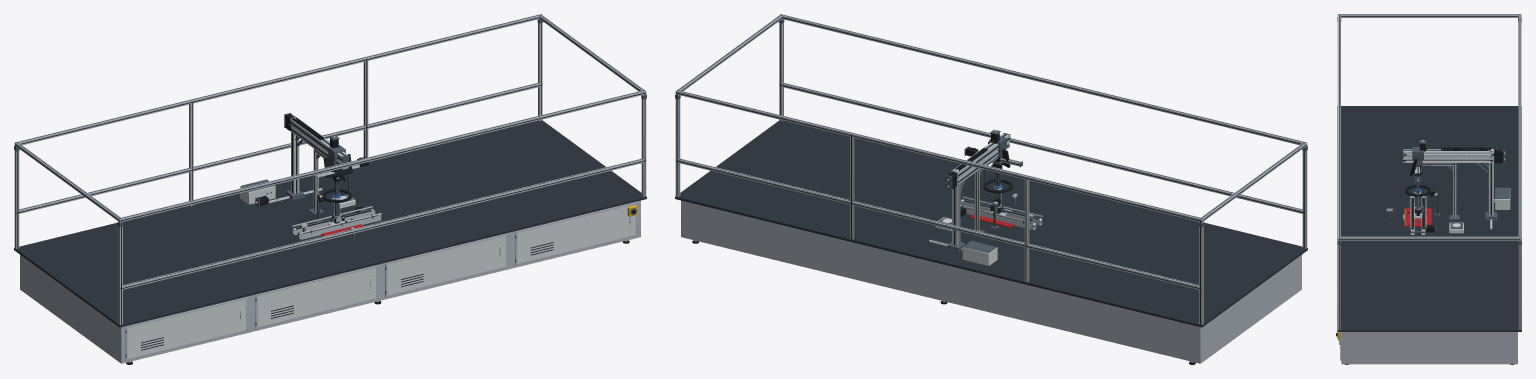
The model's file is machine.glb.
3 renders of one model, left to right at view 1: azimuth 30°, elevation 25°; view 2: azimuth 150°, elevation 25°; view 3: azimuth 270°, elevation 25°, orthographic. The views are drawn at different scales.
Parts seen in each view (by area): view 1: frame_base, frame_posts, frame_front_rail, dispenser_bridge, conveyor_zone, dispenser_fixed, vision_fixed; view 2: frame_base, frame_posts, frame_front_rail, dispenser_bridge, conveyor_zone, dispenser_fixed, vision_fixed, inspection_fixed; view 3: frame_base, frame_posts, dispenser_bridge, gantry_fixed, dispenser_fixed, conveyor_zone, vision_fixed, inspection_fixed, ng_drawer, dispenser_carriage, hmi_pendant.
Part boxes in pixels (<box>): frame_base: <box>14,120,646,364</box>; frame_posts: <box>14,14,646,324</box>; frame_front_rail: <box>118,158,646,290</box>; dispenser_bridge: <box>284,113,349,198</box>; conveyor_zone: <box>292,205,381,239</box>; dispenser_fixed: <box>240,179,355,208</box>; vision_fixed: <box>300,149,354,239</box>; frame_base: <box>675,120,1307,364</box>; frame_posts: <box>675,14,1307,324</box>; frame_front_rail: <box>779,82,1307,213</box>; dispenser_bridge: <box>945,132,1010,250</box>; conveyor_zone: <box>960,196,1042,229</box>; dispenser_fixed: <box>929,217,997,266</box>; vision_fixed: <box>973,157,1034,232</box>; inspection_fixed: <box>964,146,1022,230</box>; frame_base: <box>1336,106,1521,364</box>; frame_posts: <box>1337,14,1521,329</box>; dispenser_bridge: <box>1403,147,1505,219</box>; gantry_fixed: <box>1403,157,1505,220</box>; dispenser_fixed: <box>1449,187,1510,233</box>; conveyor_zone: <box>1409,196,1435,234</box>; vision_fixed: <box>1386,163,1459,219</box>; inspection_fixed: <box>1415,163,1456,217</box>; ng_drawer: <box>1403,208,1431,226</box>; dispenser_carriage: <box>1412,140,1427,159</box>; hmi_pendant: <box>1410,158,1431,208</box>.
Size of the model in its own units: 13.8 by 3.79 by 4.84.
